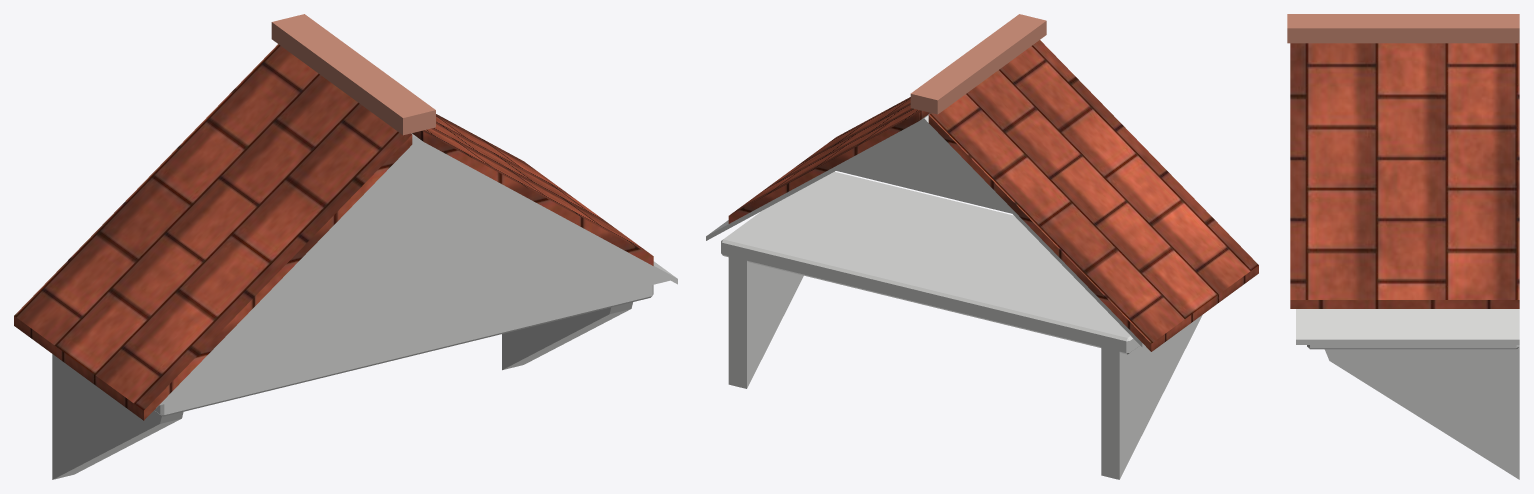
Rendered from canopy.glb.
The picture shows the model from 3 angles, left to right: view 1: azimuth 30°, elevation 25°; view 2: azimuth 150°, elevation 25°; view 3: azimuth 270°, elevation 25°; orthographic projection. The views are drawn at different scales.
Visible parts, largest first — view 1: canopy_shingles, canopy_trim, canopy_ridge; view 2: canopy_trim, canopy_shingles, canopy_ridge; view 3: canopy_shingles, canopy_trim, canopy_ridge.
Part boxes in pixels (left/top/right/bottom): canopy_shingles: left=14, top=44, right=653, bottom=420; canopy_trim: left=52, top=133, right=677, bottom=479; canopy_ridge: left=271, top=14, right=435, bottom=135; canopy_trim: left=706, top=113, right=1202, bottom=479; canopy_shingles: left=728, top=40, right=1258, bottom=351; canopy_ridge: left=910, top=14, right=1046, bottom=114; canopy_shingles: left=1290, top=43, right=1519, bottom=308; canopy_trim: left=1296, top=309, right=1519, bottom=479; canopy_ridge: left=1287, top=14, right=1519, bottom=43.
Bounding box in the file's own units: 1.96 × 1.41 × 0.83.
Materials: 5 (1 with a texture image).
